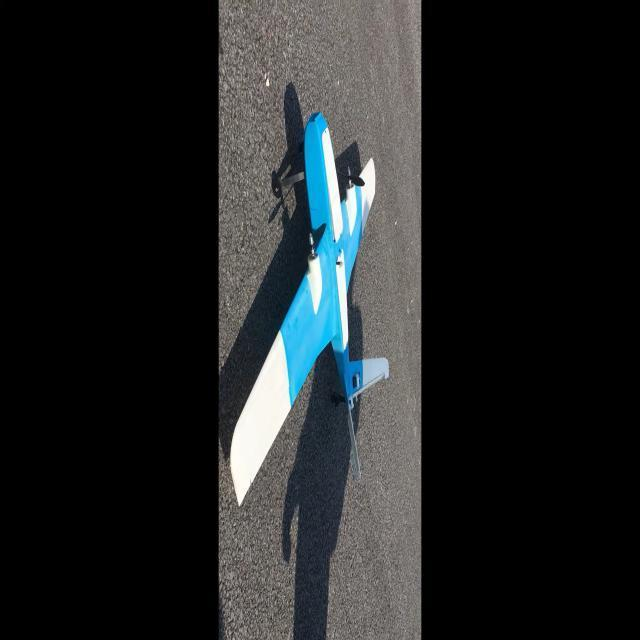UAV: (233, 105, 401, 498)
